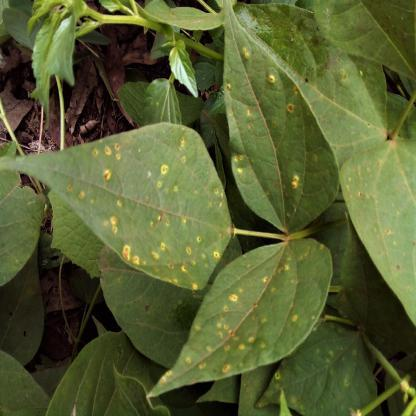Beans_Rust: (0, 118, 228, 289), (154, 237, 328, 405), (222, 0, 340, 235), (339, 93, 416, 330)
